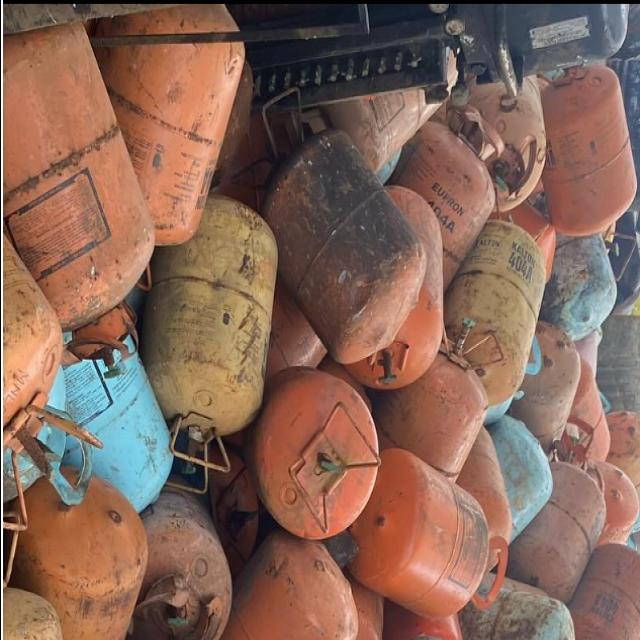cylinder: (2, 20, 154, 378), (230, 86, 425, 363), (142, 195, 277, 494), (348, 447, 507, 620), (242, 366, 382, 539)
